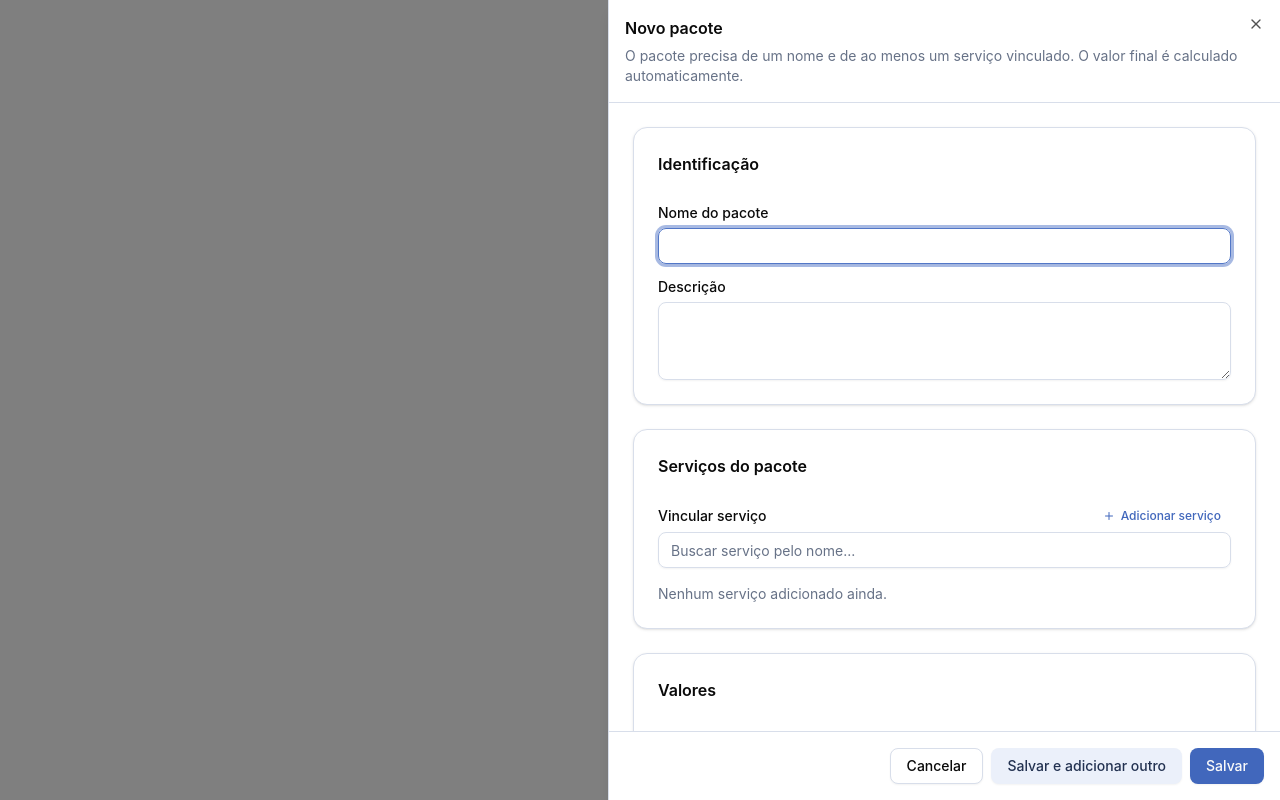
it: PackageFormSheet › applies a fixed discount to the live final value
Type "Pacote" into the field labelled "Nome do pacote".
click(944, 246); type("Pacote")  # box x1=658 y1=228 x2=1231 y2=264
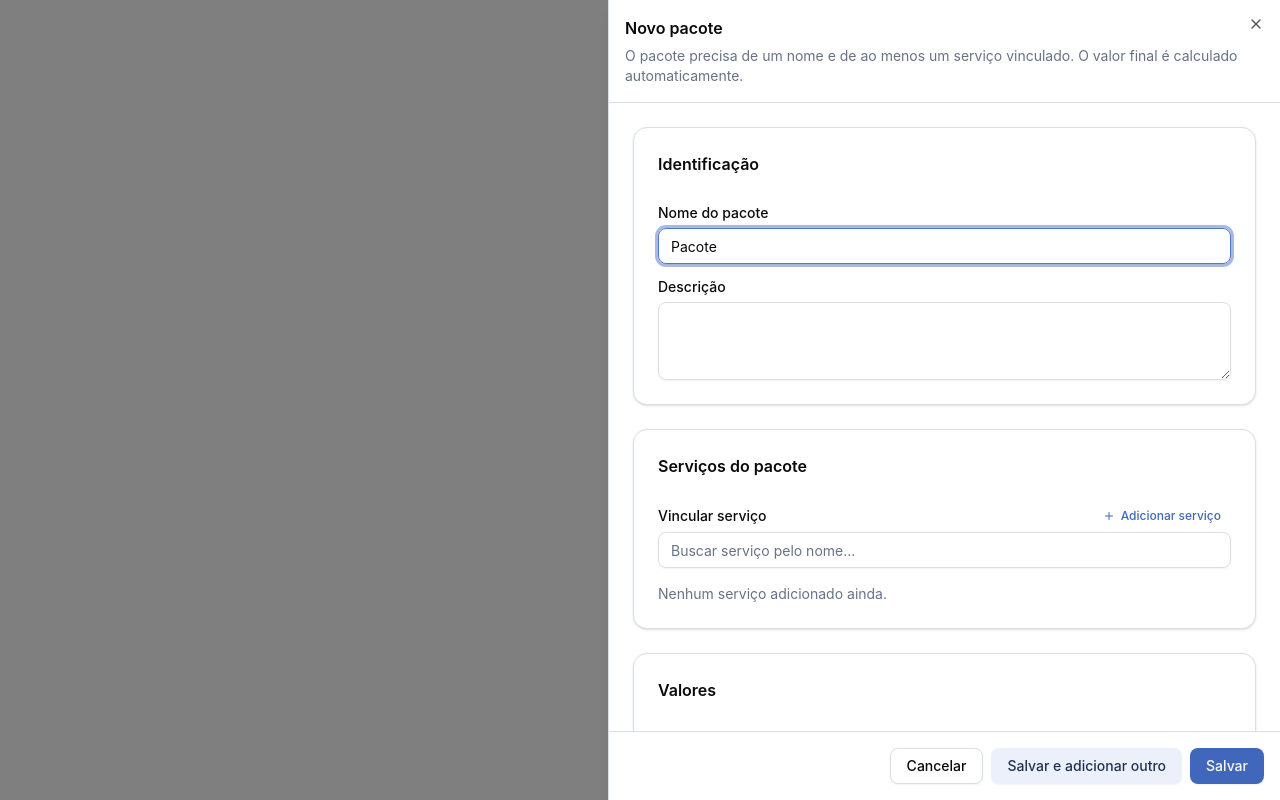
Click the field with placeholder "Buscar serviço pelo nome...".
click(944, 550)  # box x1=658 y1=532 x2=1231 y2=568
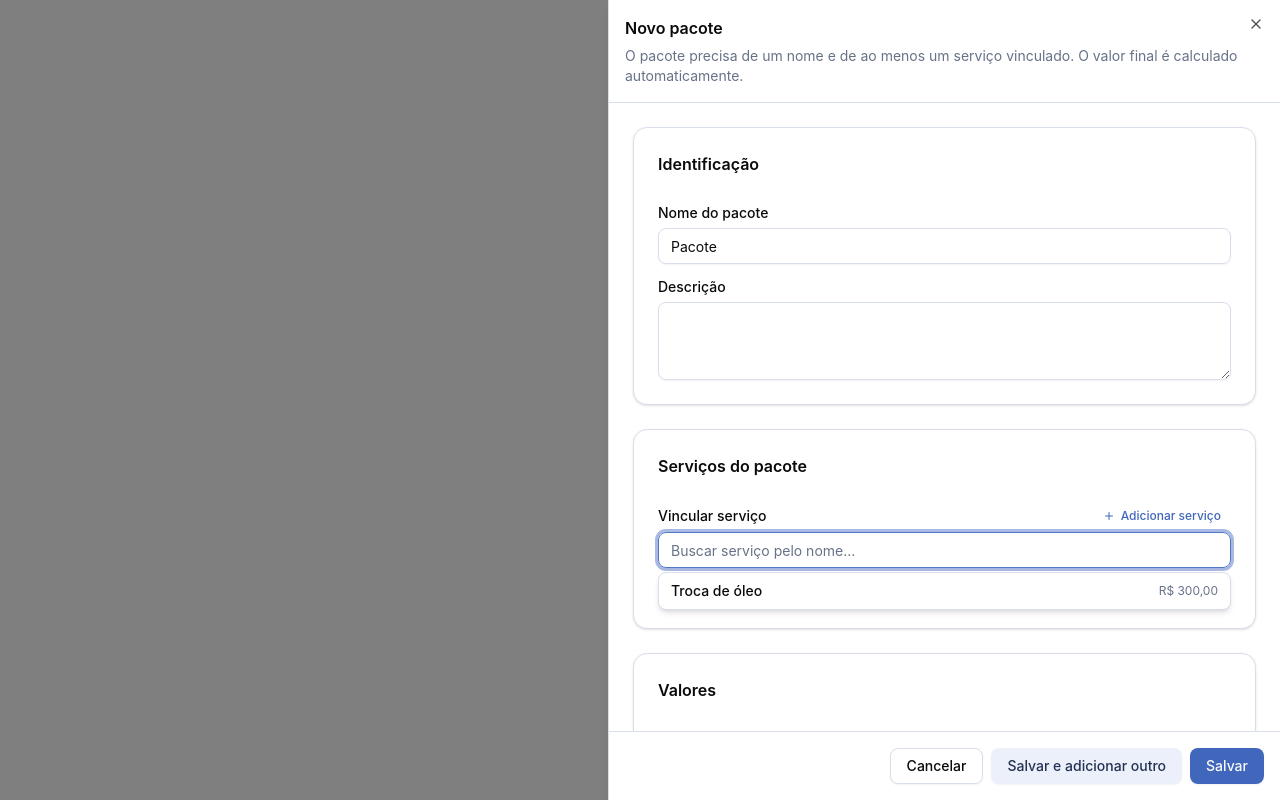
Click the button "Troca de óleo R$ 300,00".
click(717, 590)  # box x1=659 y1=573 x2=1230 y2=609
(page scrolled)
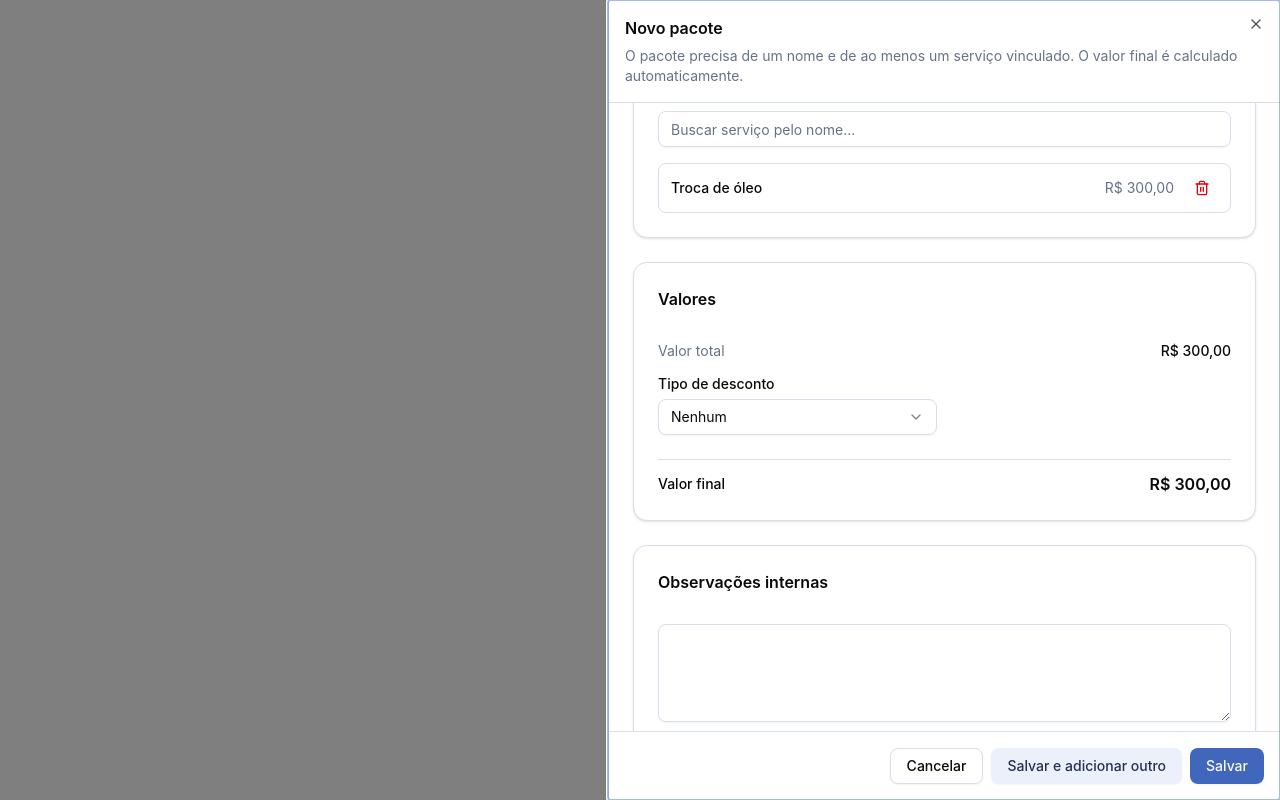
Click the dropdown named "Tipo de desconto".
click(699, 416)  # box x1=658 y1=399 x2=936 y2=435
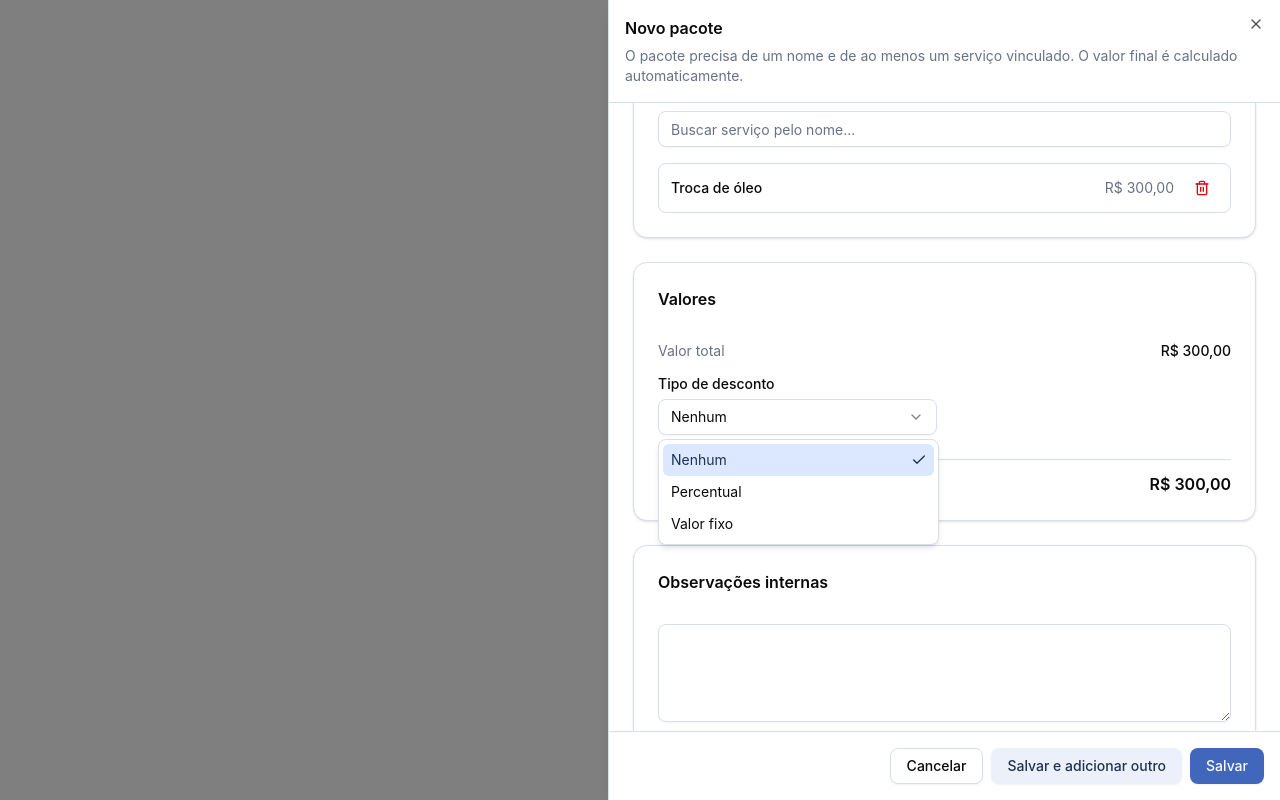
Click the option "Valor fixo".
click(702, 524)  # box x1=671 y1=515 x2=733 y2=532
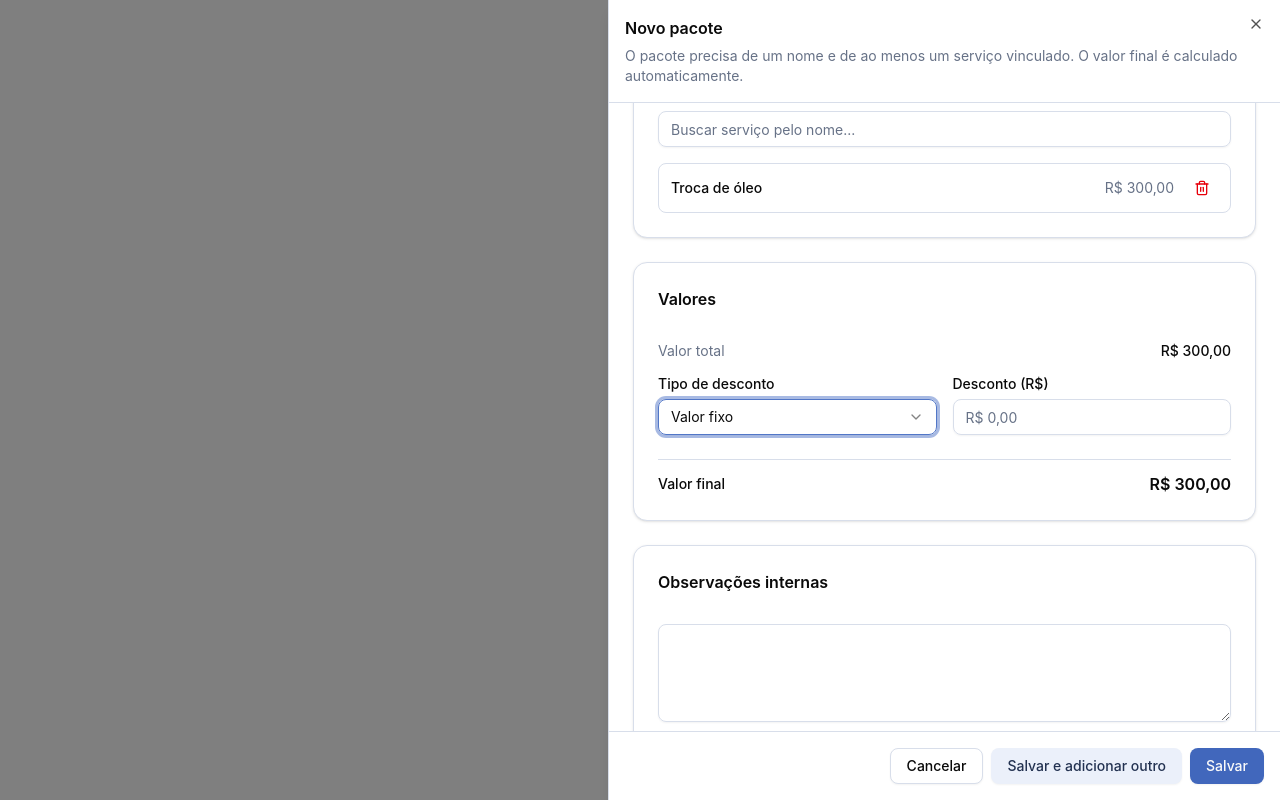
Type "5000" into the field labelled "Desconto (R$)".
click(1092, 417); type("5000")  # box x1=952 y1=399 x2=1231 y2=435
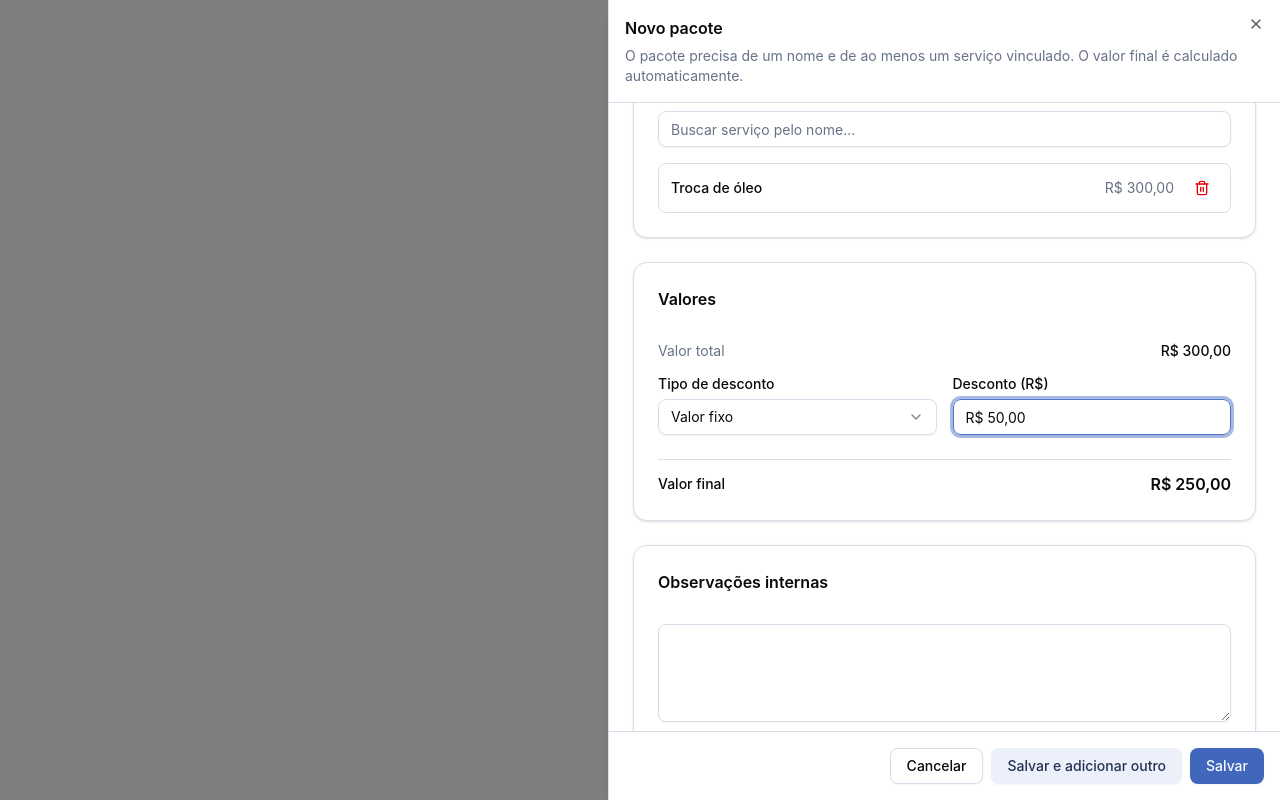
Expected: the text with test id "package-final" reads "R$ 250,00", x1=1150 y1=474 x2=1231 y2=494
